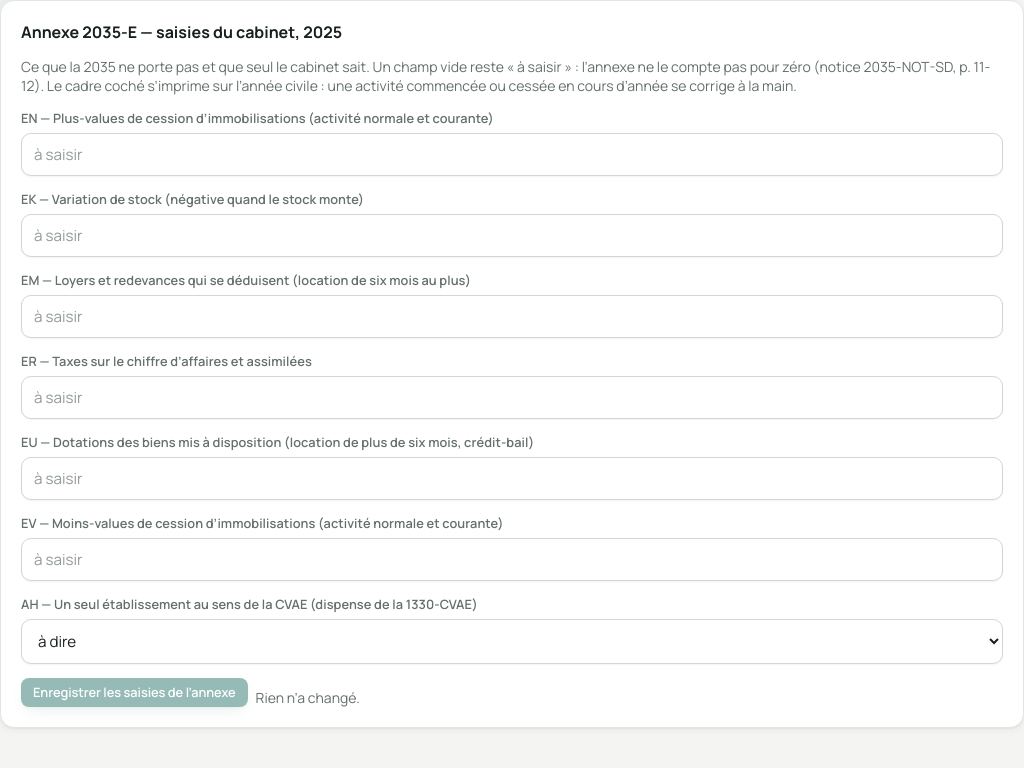
Test case: la carte des saisies de l’annexe 2035-E › dit le refus avant le clic : un montant qui ne se lit pas, un loyer négatif
In the field labelled "EM — ": point(512, 316) [21, 295, 1003, 338], type "12,5"
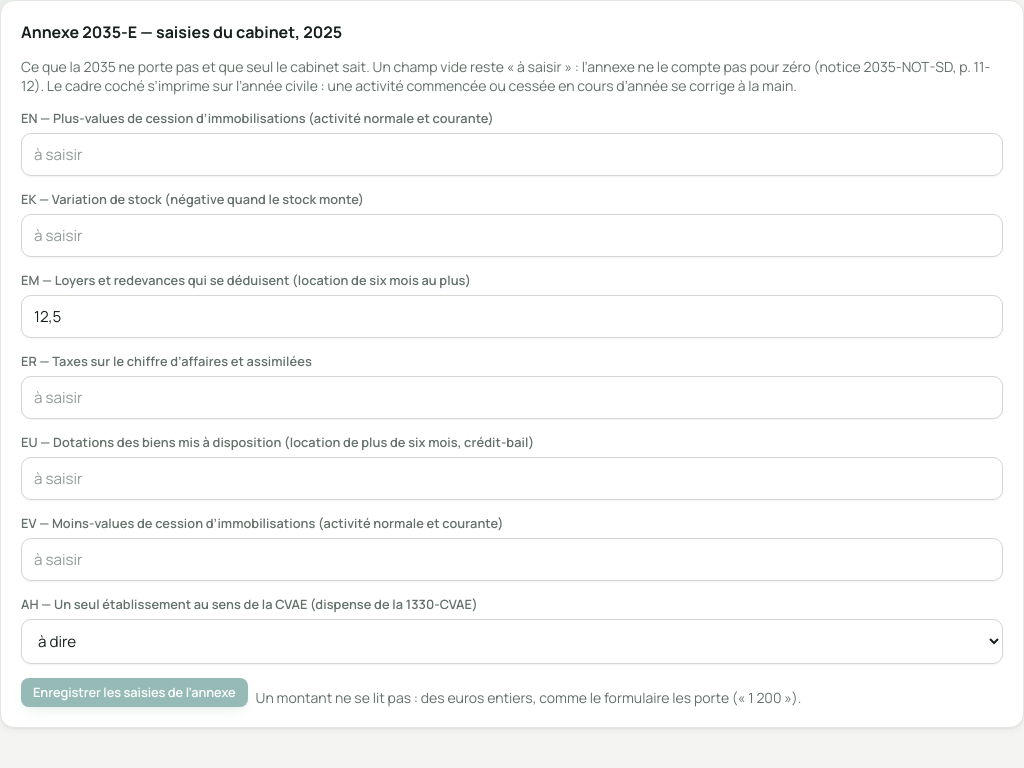
Expected: the text "Un montant ne se lit pas" is shown, [256, 688, 801, 707]
Replace the text in the field labelled "EM — " with "-1": point(512, 316) [21, 295, 1003, 338]
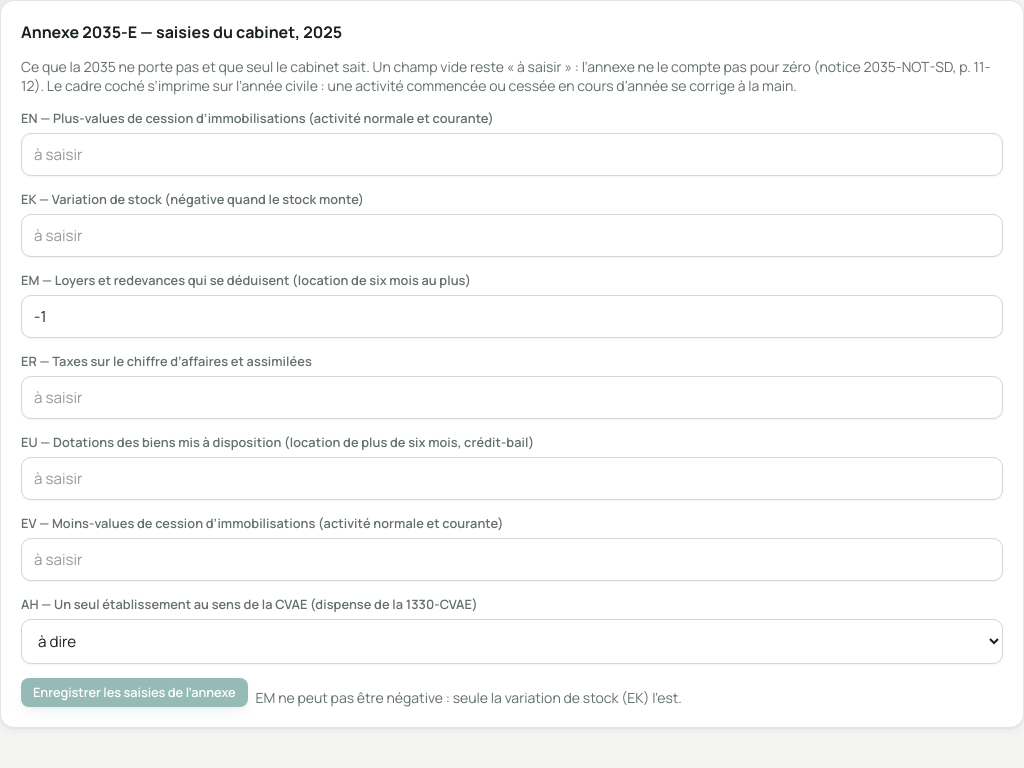
Expected: the button "Enregistrer les saisies de l’annexe" is disabled, [21, 678, 248, 707]
Expected: the text "EM ne peut pas être négative" is shown, [256, 688, 682, 707]
